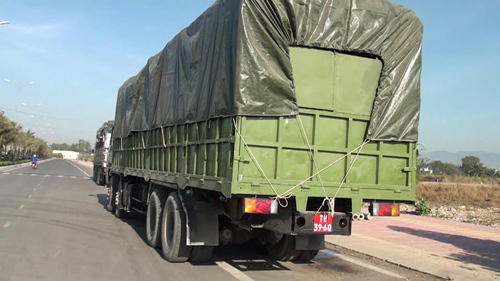plate: (312, 212, 336, 235)
